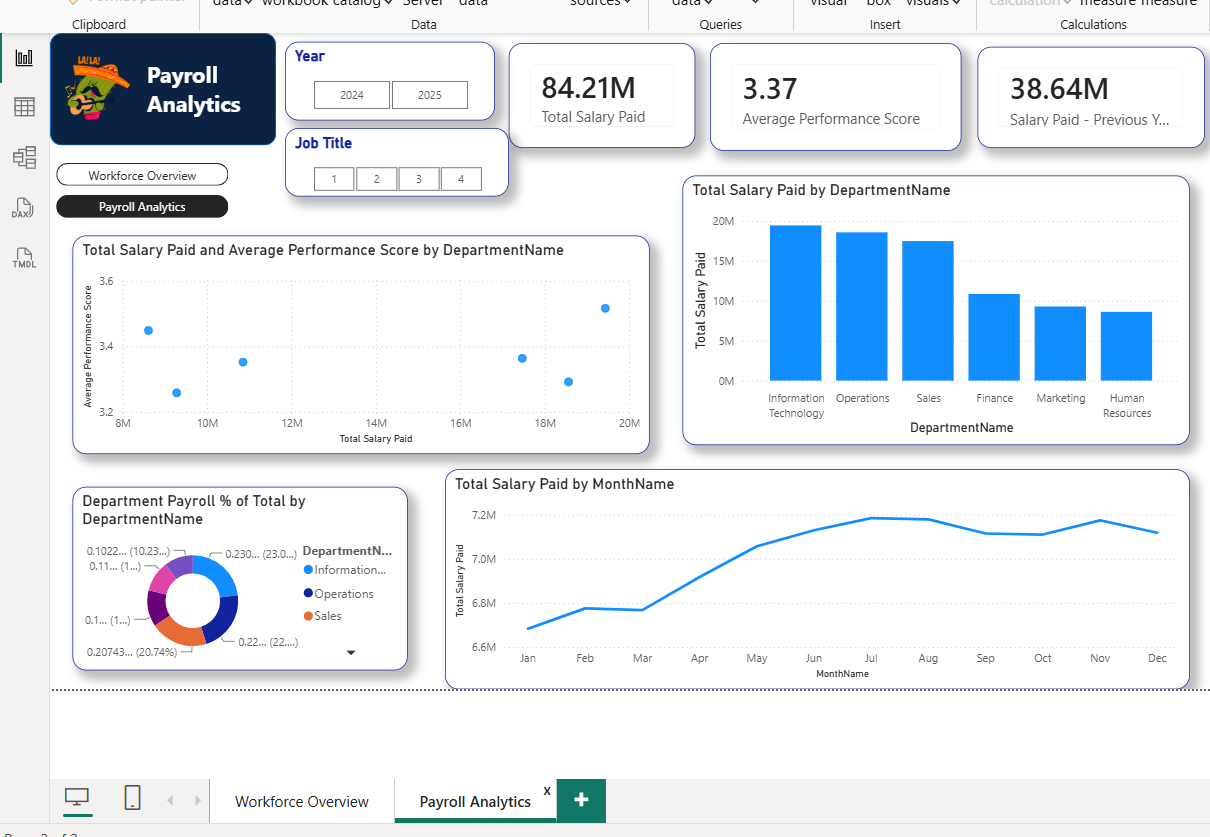

The dashboard page shown, as its layout file describes it:
{"tool":"powerbi","page":{"name":"Payroll Analytics","canvas":[1280,720],"ordinal":1},"visuals":[{"type":"shape","box":[0,0,248.4,123.5],"z":0},{"type":"image","box":[15.1,24.7,74.1,71.4],"z":1000},{"type":"textbox","box":[101.5,24.7,203.1,86.4],"z":2000},{"type":"cardVisual","fields":{"Data":["FactMonthlyWorkforce.Total Salary Paid"]},"box":[503.6,11,204.5,115.3],"z":3000},{"type":"cardVisual","fields":{"Data":["FactMonthlyWorkforce.Salary Paid - Previous Year"]},"box":[1018.2,15.1,249.7,111.1],"z":4000},{"type":"cardVisual","fields":{"Data":["FactMonthlyWorkforce.Average Performance Score"]},"box":[724.5,11,275.8,118],"z":5000},{"type":"slicer","title":"Year","fields":{"Values":["DimDate.Year"]},"box":[258,9.6,230.5,86.4],"z":6000},{"type":"slicer","title":"Job Title","fields":{"Values":["DimJobRole.JobLevel"]},"box":[258,104.3,245.6,75.5],"z":7000},{"type":"lineChart","fields":{"Category":["DimDate.MonthName"],"Y":["FactMonthlyWorkforce.Total Salary Paid"]},"box":[433.6,478.9,817.8,241.5],"z":8000},{"type":"clusteredColumnChart","fields":{"Category":["DimDepartment.DepartmentName"],"Y":["FactMonthlyWorkforce.Total Salary Paid"]},"box":[694.3,156.4,557.1,296.4],"z":9000},{"type":"donutChart","fields":{"Category":["DimDepartment.DepartmentName"],"Y":["FactMonthlyWorkforce.Department Payroll % of Total"]},"box":[24.7,498.1,367.8,201.7],"z":10000},{"type":"scatterChart","fields":{"X":["FactMonthlyWorkforce.Total Salary Paid"],"Y":["FactMonthlyWorkforce.Average Performance Score"],"Category":["DimDepartment.DepartmentName"]},"box":[24.7,222.3,634,240.1],"z":11000},{"type":"pageNavigator","box":[6.9,142.7,189.4,60.4],"z":12000}]}

Visuals, with their boxes on the page's 1280x720 design canvas (x1, y1, x2, y2). These are canvas units, not pixel positions in the 1210x837 screenshot, which may show the page scaled, cropped or inside an application window:
shape: <bbox>0, 0, 248, 124</bbox>
image: <bbox>15, 25, 89, 96</bbox>
textbox: <bbox>102, 25, 305, 111</bbox>
cardVisual - FactMonthlyWorkforce.Total Salary Paid: <bbox>504, 11, 708, 126</bbox>
cardVisual - FactMonthlyWorkforce.Salary Paid - Previous Year: <bbox>1018, 15, 1268, 126</bbox>
cardVisual - FactMonthlyWorkforce.Average Performance Score: <bbox>724, 11, 1000, 129</bbox>
"Year" slicer: <bbox>258, 10, 488, 96</bbox>
"Job Title" slicer: <bbox>258, 104, 504, 180</bbox>
lineChart - DimDate.MonthName x FactMonthlyWorkforce.Total Salary Paid: <bbox>434, 479, 1251, 720</bbox>
clusteredColumnChart - DimDepartment.DepartmentName x FactMonthlyWorkforce.Total Salary Paid: <bbox>694, 156, 1251, 453</bbox>
donutChart - DimDepartment.DepartmentName x FactMonthlyWorkforce.Department Payroll % of Total: <bbox>25, 498, 392, 700</bbox>
scatterChart - FactMonthlyWorkforce.Total Salary Paid x FactMonthlyWorkforce.Average Performance Score: <bbox>25, 222, 659, 462</bbox>
pageNavigator: <bbox>7, 143, 196, 203</bbox>
